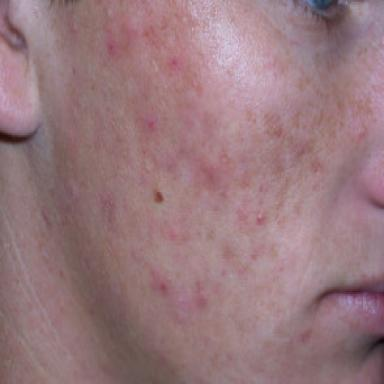acne: (151, 267, 171, 293), (124, 20, 139, 40), (197, 290, 208, 307), (107, 33, 115, 55), (147, 116, 157, 131), (257, 214, 265, 224), (171, 57, 178, 66)
